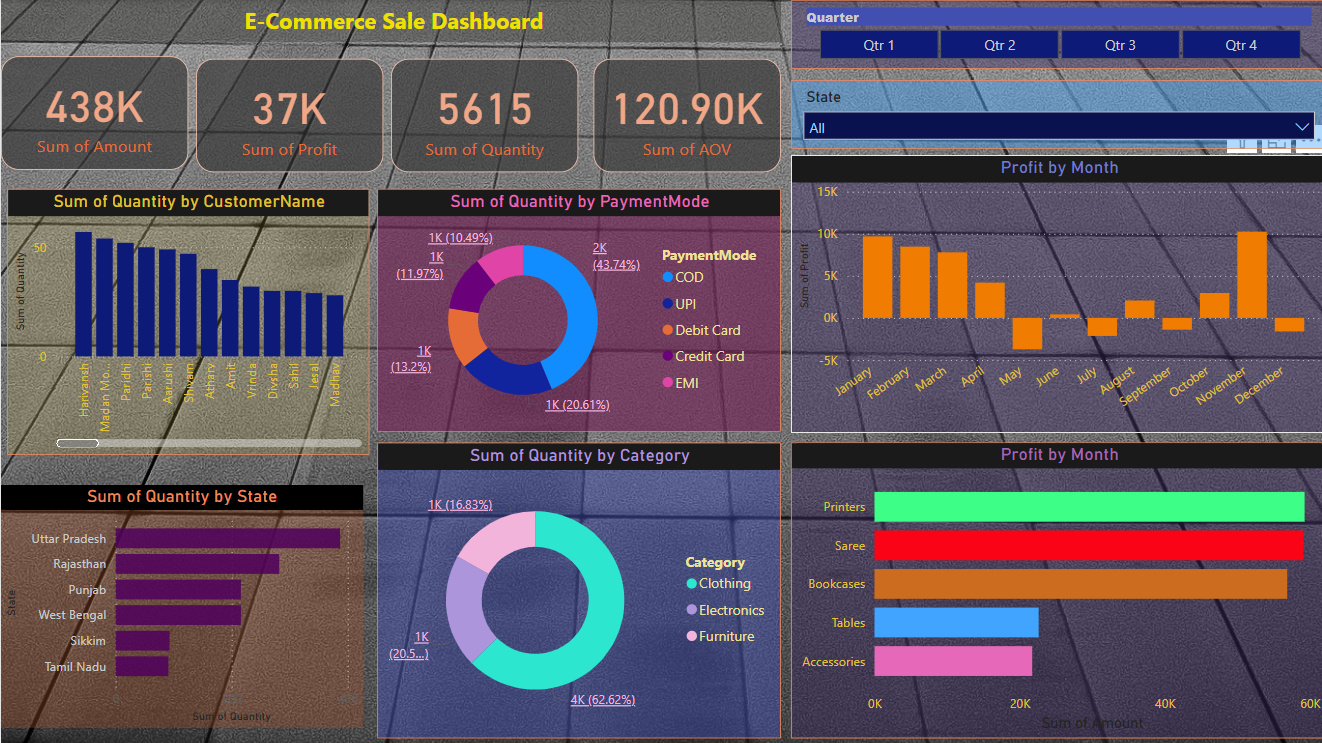

What the dashboard file says about the page in this screenshot:
{"tool":"powerbi","page":{"name":"Page 1","canvas":[1280,720],"ordinal":0},"visuals":[{"type":"textbox","box":[0,0,752.8,41],"z":0},{"type":"columnChart","title":"Profit by Month","fields":{"Category":["Orders.Order Date.Variation.Date Hierarchy.Month"],"Y":["Details.Profit"]},"box":[762.5,149.6,517.6,267.8],"z":1000},{"type":"barChart","title":"Profit by Month","fields":{"Category":["Details.Sub-Category"],"Y":["Details.Amount"]},"box":[763,426.8,517.3,285.4],"z":2000},{"type":"donutChart","fields":{"Category":["Details.Category"],"Y":["Details.Quantity"]},"box":[363.6,426.8,389.7,285.4],"z":3000},{"type":"donutChart","fields":{"Category":["Details.PaymentMode"],"Y":["Details.Quantity"]},"box":[363.6,182.5,389.7,234.6],"z":4000},{"type":"card","fields":{"Values":["Details.Amount"]},"box":[0,54.9,181,109.8],"z":5000},{"type":"card","fields":{"Values":["Details.Quantity"]},"box":[376,56.3,181.1,109.8],"z":6000},{"type":"card","fields":{"Values":["Details.AOV"]},"box":[572.2,56.3,181.1,109.8],"z":7000},{"type":"card","fields":{"Values":["Details.Profit"]},"box":[188,56.3,181.1,109.8],"z":8000},{"type":"clusteredColumnChart","fields":{"Category":["Orders.CustomerName"],"Y":["Details.Quantity"]},"box":[6,182.2,349.9,257],"z":8001},{"type":"barChart","fields":{"Category":["Orders.State"],"Y":["Details.Quantity"]},"box":[0,468.1,349.9,234],"z":8002},{"type":"slicer","fields":{"Values":["Orders.State"]},"box":[762.5,77.2,517.6,66.4],"z":8003},{"type":"slicer","fields":{"Values":["Orders.Order Date.Variation.Date Hierarchy.Quarter"]},"box":[762.5,0,517.6,66.4],"z":8004}]}

Visuals, with their boxes in screenshot pixels (x1, y1, x2, y2), scaled from the page's 1280x720 canvas onto the 1322x743 screenshot:
textbox: Rect(0, 0, 778, 42)
"Profit by Month" columnChart: Rect(788, 154, 1321, 431)
"Profit by Month" barChart: Rect(788, 440, 1321, 735)
donutChart - Details.Category x Details.Quantity: Rect(376, 440, 778, 735)
donutChart - Details.PaymentMode x Details.Quantity: Rect(376, 188, 778, 430)
card - Details.Amount: Rect(0, 57, 187, 170)
card - Details.Quantity: Rect(388, 58, 575, 171)
card - Details.AOV: Rect(591, 58, 778, 171)
card - Details.Profit: Rect(194, 58, 381, 171)
clusteredColumnChart - Orders.CustomerName x Details.Quantity: Rect(6, 188, 368, 453)
barChart - Orders.State x Details.Quantity: Rect(0, 483, 361, 725)
slicer - Orders.State: Rect(788, 80, 1321, 148)
slicer - Orders.Order Date.Variation.Date Hierarchy.Quarter: Rect(788, 0, 1321, 69)
